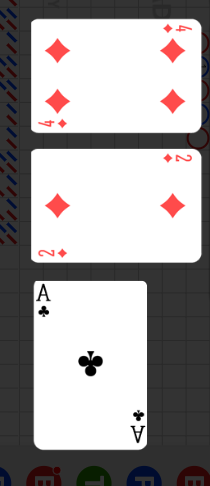2D: (36, 247, 69, 259), (161, 152, 193, 164)
AC: (128, 407, 145, 445)
